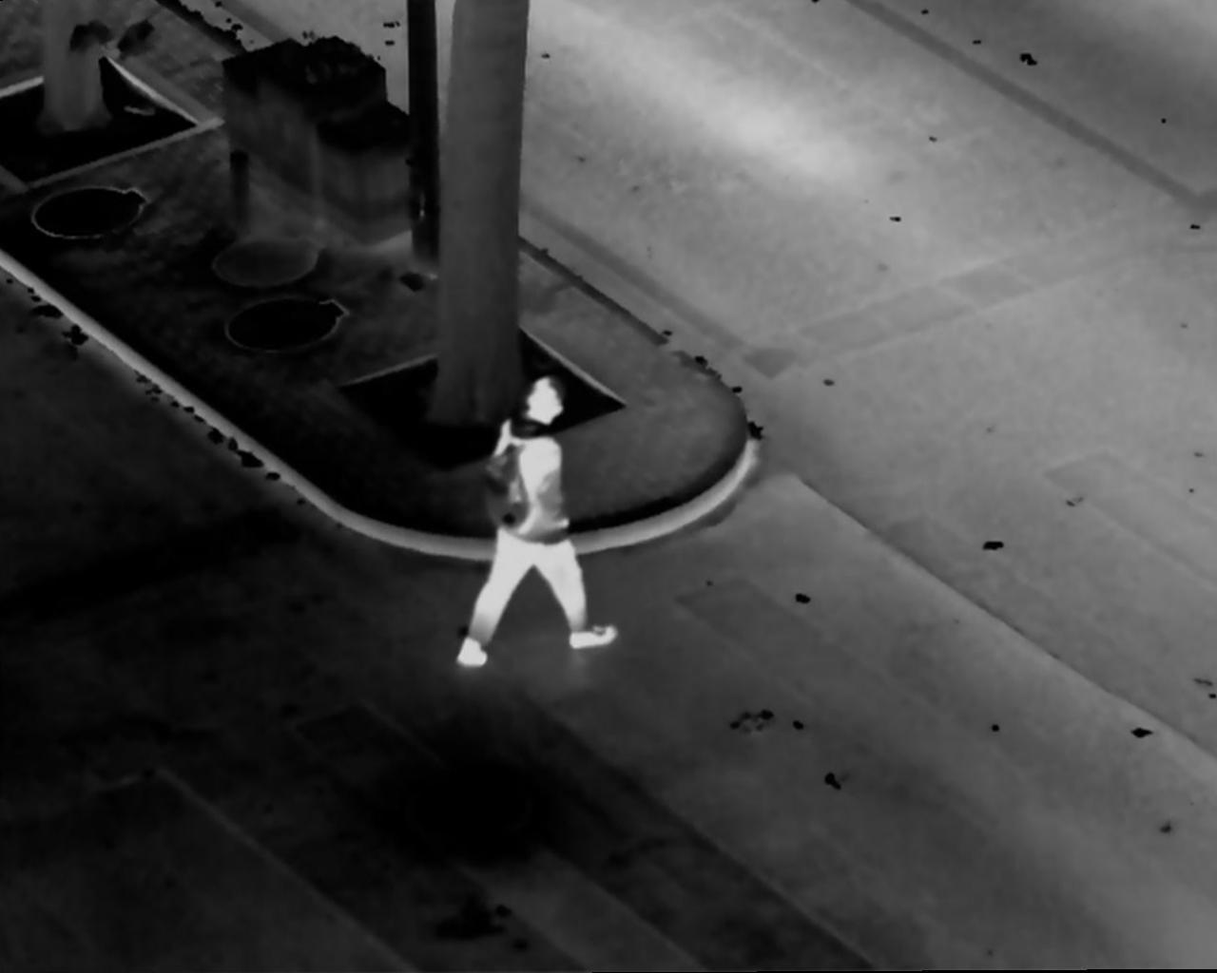person: (450, 368, 619, 668)
